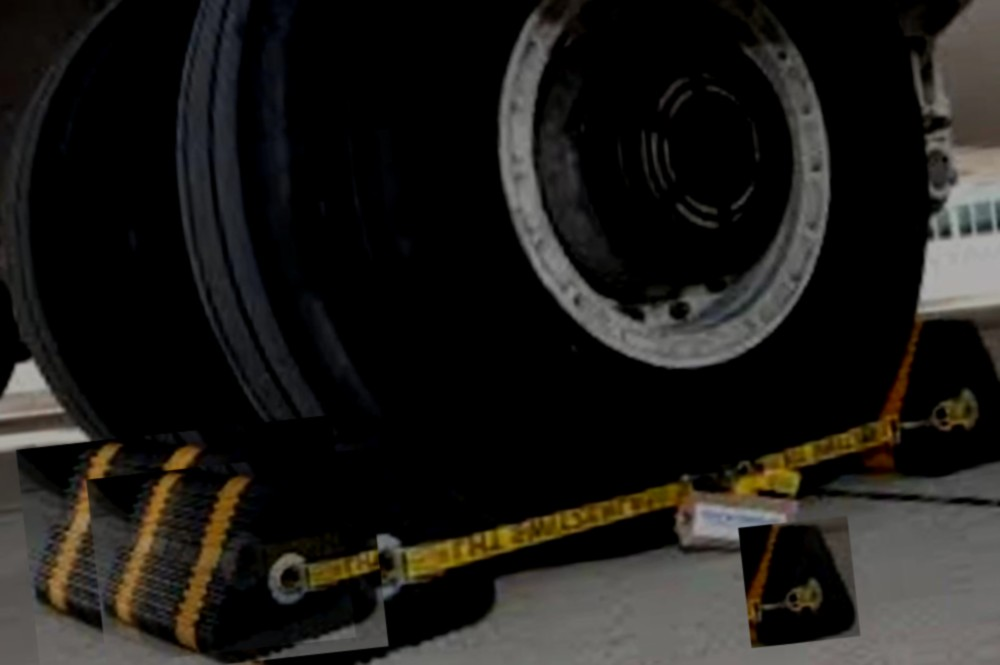chock: (115, 398, 510, 665), (16, 415, 356, 665), (86, 449, 389, 665), (870, 308, 1000, 478), (738, 516, 861, 648)
wheel: (130, 0, 994, 570), (0, 0, 292, 502)
